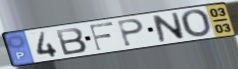4: (35, 30, 60, 59)
B: (54, 26, 89, 56)
F: (88, 21, 115, 52)
N: (151, 11, 187, 44)
O: (179, 8, 214, 38)
P: (117, 18, 146, 48)
